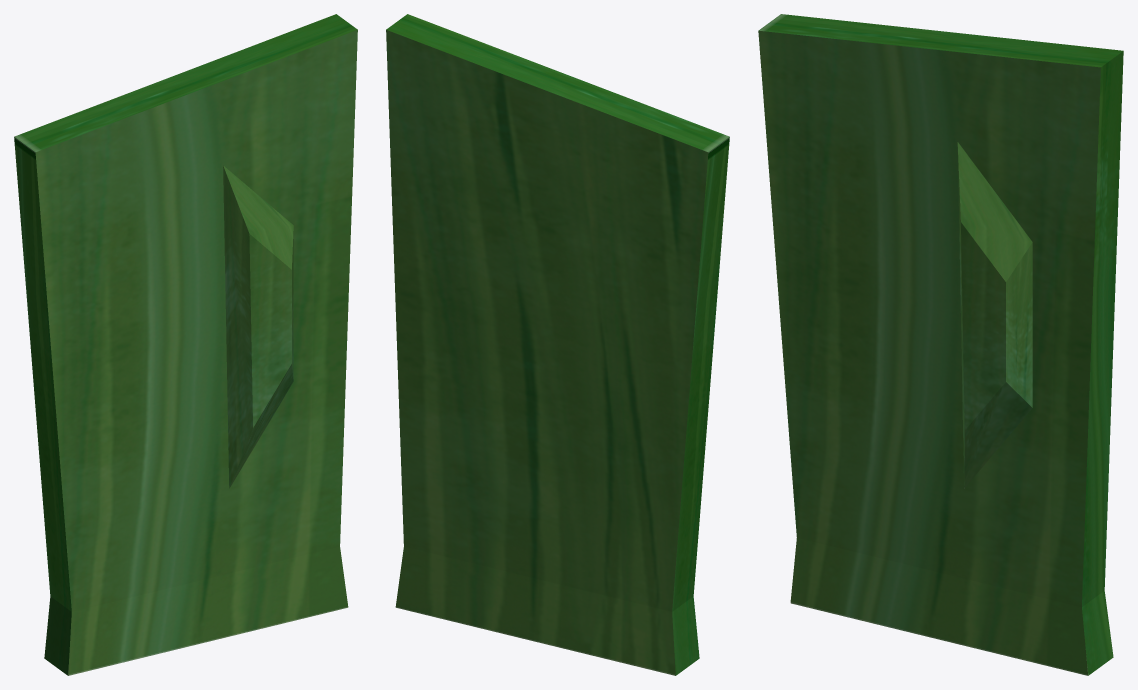
The model's file is Puerta_intermedia.glb.
3 views of the same model, side by side, from view 1: azimuth 30°, elevation 25°; view 2: azimuth 150°, elevation 25°; view 3: azimuth 330°, elevation 25° (orthographic). The views are drawn at different scales.
Parts seen in each view (by area): view 1: G_puerta2.001; view 2: G_puerta2.001; view 3: G_puerta2.001.
Boxes of the visible parts, x1,y1,x2,y2 form: G_puerta2.001: (14,14,357,675); G_puerta2.001: (386,14,729,675); G_puerta2.001: (758,14,1123,675).
Bounding box in the file's own units: 3.6 × 6.13 × 0.6632.
Materials: 1 (1 with a texture image).
